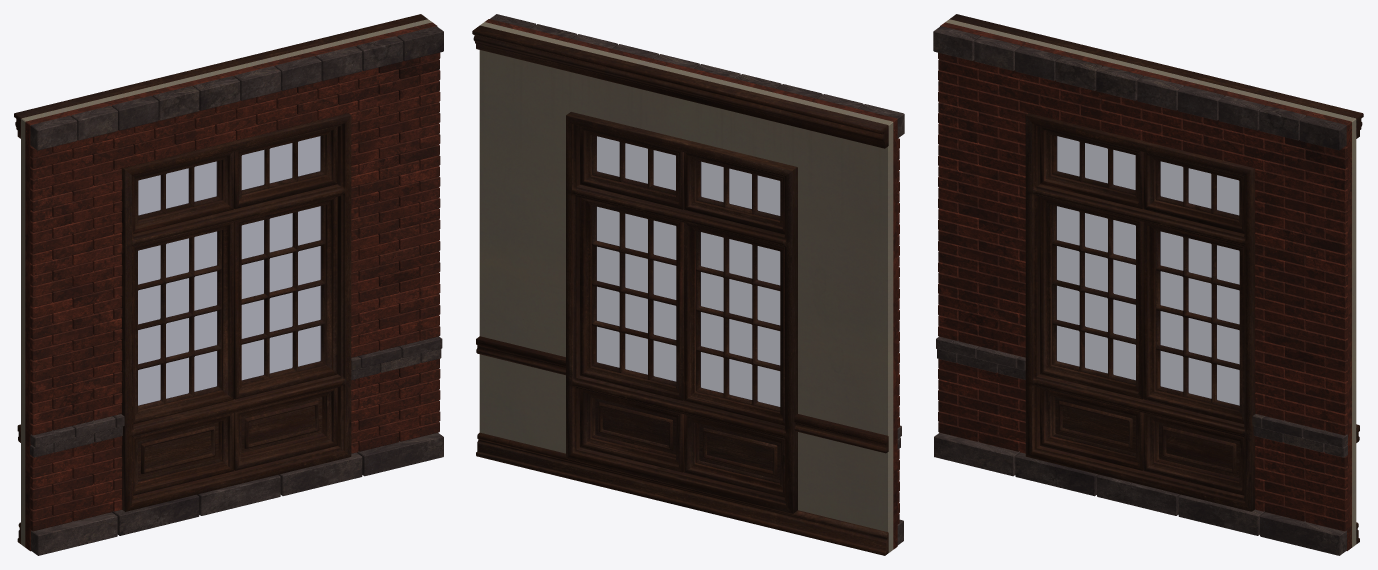
File: SK1 WINDOW2.fbx
3 renders of one model, left to right at view 1: azimuth 30°, elevation 25°; view 2: azimuth 150°, elevation 25°; view 3: azimuth 330°, elevation 25°, orthographic.
Parts seen in each view (by area): view 1: SK1 WINDOW2.004; view 2: SK1 WINDOW2.004; view 3: SK1 WINDOW2.004.
Part boxes in pixels (<box>): SK1 WINDOW2.004: <box>14,14,443,555</box>; SK1 WINDOW2.004: <box>472,14,904,555</box>; SK1 WINDOW2.004: <box>933,14,1363,555</box>.
Size of the model in its own units: 400 by 400 by 39.94.
